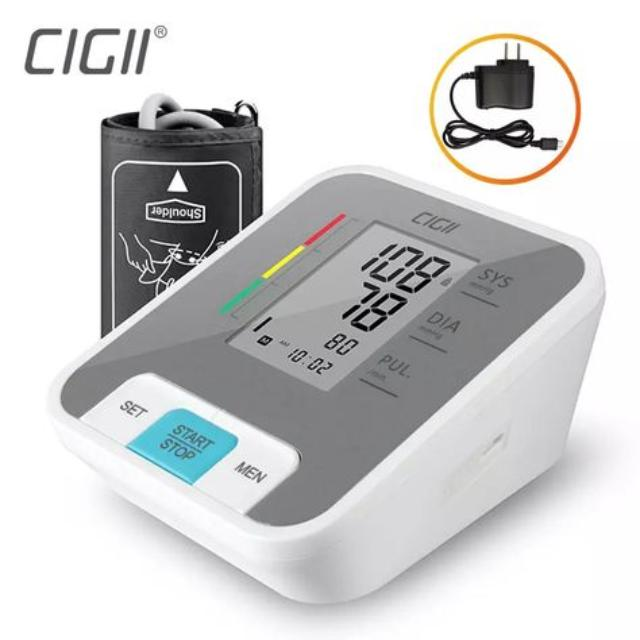Blood-Pressure-Monitor: (50, 169, 604, 602)
